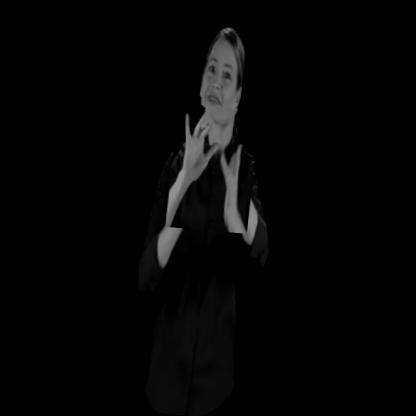Internet: (166, 104, 261, 235)
